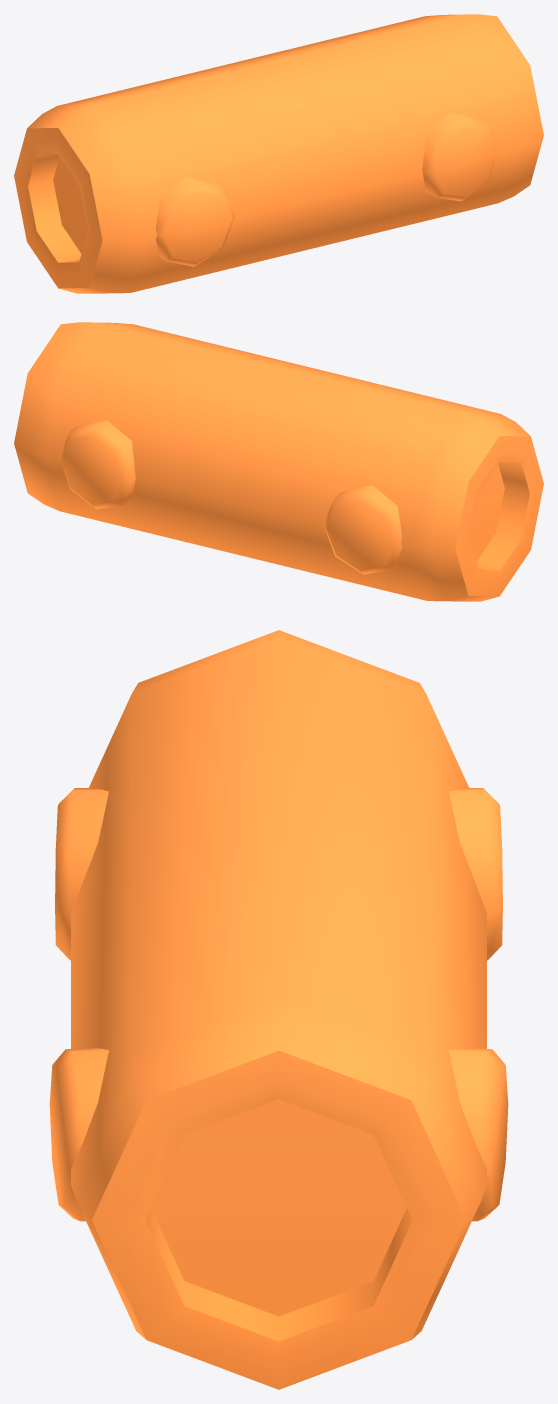
The model's file is bronze_guard_063.glb.
3 views of the same model, one above another, from view 1: azimuth 30°, elevation 25°; view 2: azimuth 150°, elevation 25°; view 3: azimuth 270°, elevation 25° (orthographic). The views are drawn at different scales.
Parts seen in each view (by area): view 1: bronze_guard_063; view 2: bronze_guard_063; view 3: bronze_guard_063.
Boxes of the visible parts, x1,y1,x2,y2 form: bronze_guard_063: [14, 14, 543, 293]; bronze_guard_063: [14, 322, 543, 601]; bronze_guard_063: [49, 630, 508, 1389].
Bounding box in the file's own units: 4.9 × 2 × 2.21.
1 material, 1 textured.
